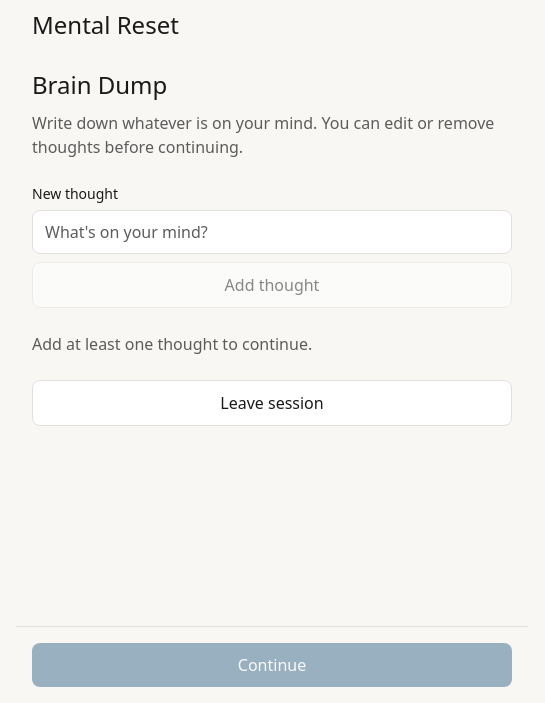
Test: Brain Dump screen › adds, edits, and deletes thoughts
Type "Call dentist" into the field labelled "New thought" at (272, 232), box [32,210,512,254]
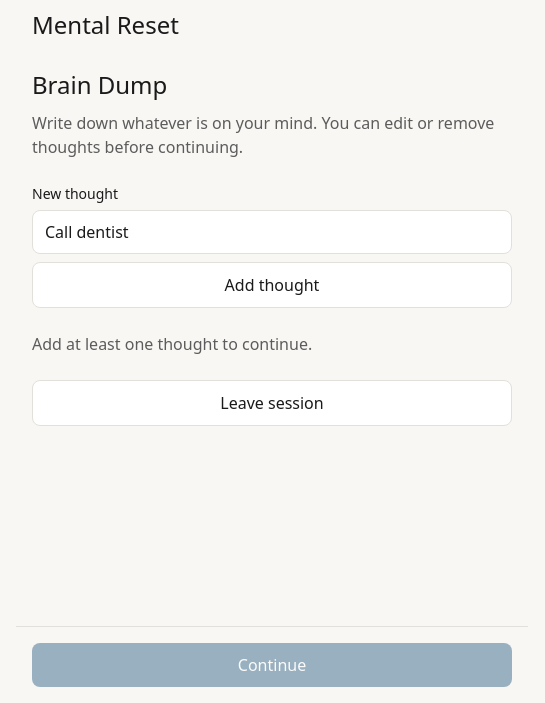
Click the button "Add thought" at (272, 285), box [32,262,512,308]
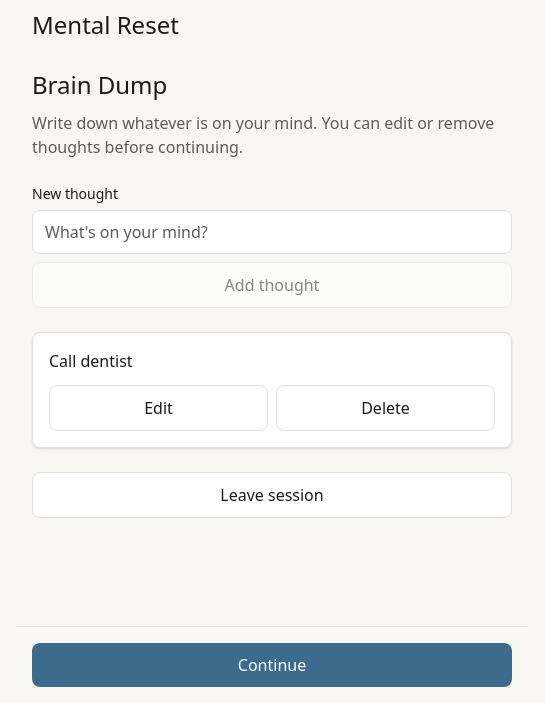
Check: the text "Call dentist" is shown, box [49,350,133,372]
Check: the button "Continue" is enabled, box [32,643,512,687]
Click the button "Edit" at (158, 408), box [49,385,268,431]
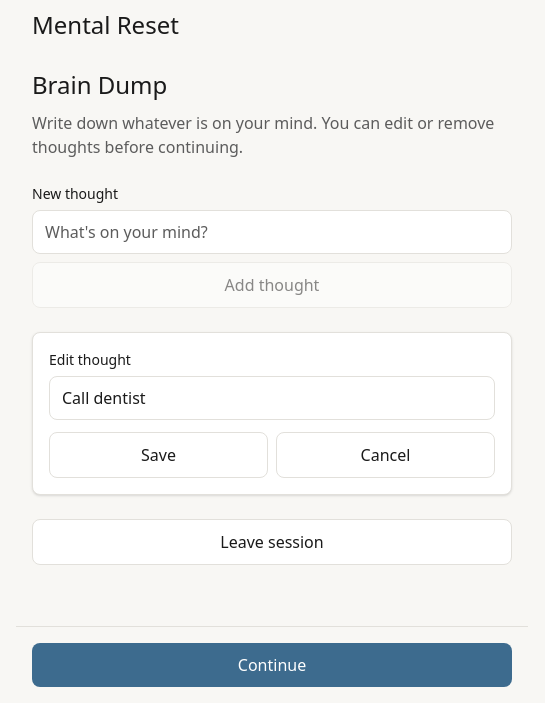
Replace the text in the field labelled "Edit thought" with "Call dentist tomorrow" at (272, 398), box [49,376,495,420]
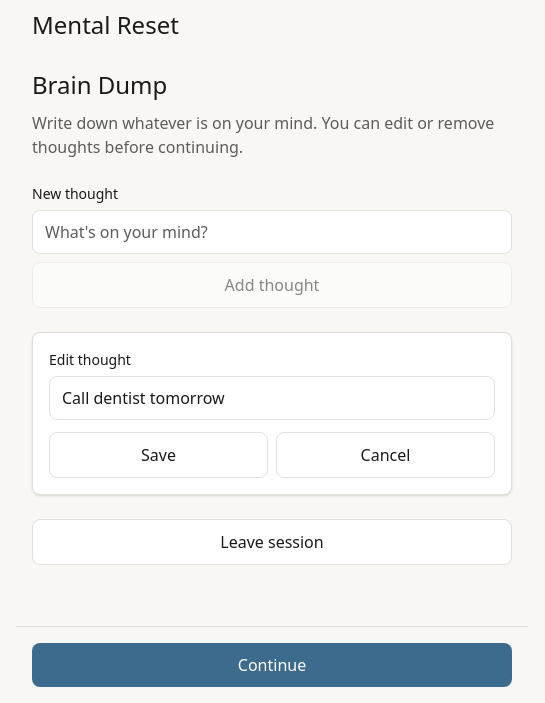
Click the button "Save" at (158, 455), box [49,432,268,478]
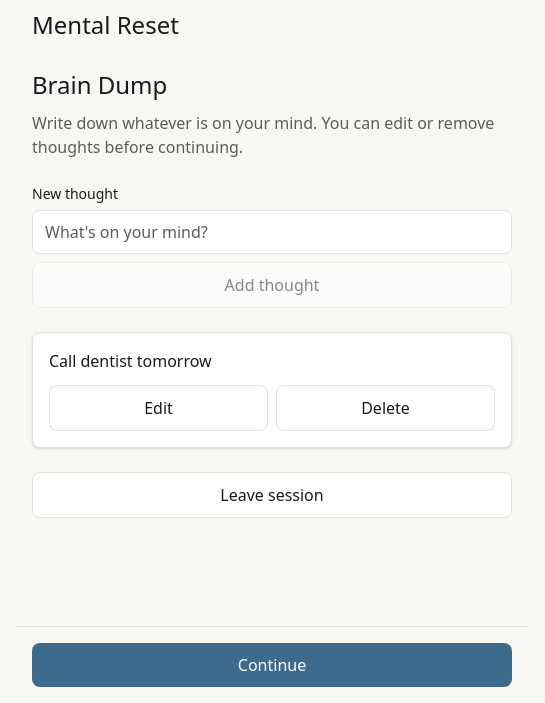
Check: the text "Call dentist tomorrow" is shown, box [49,350,212,372]
Click the button with aria-label "delete thought" at (386, 408), box [276,385,495,431]
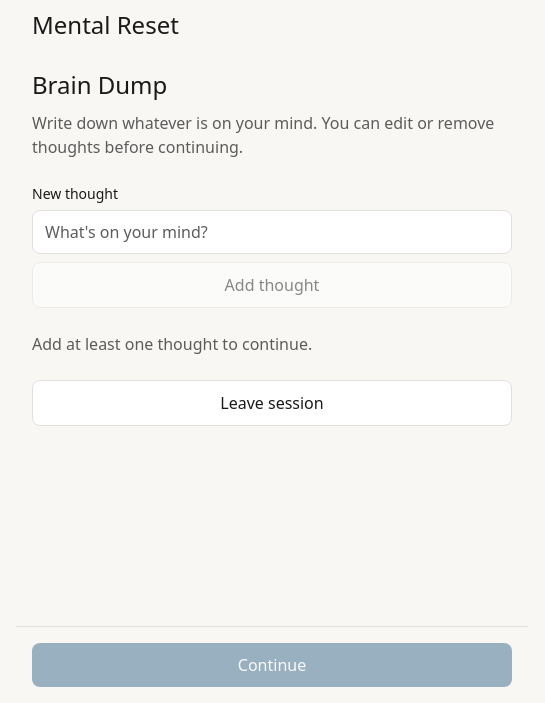
Check: the text "Call dentist tomorrow" is gone
Check: the button "Continue" is disabled, box [32,643,512,687]
